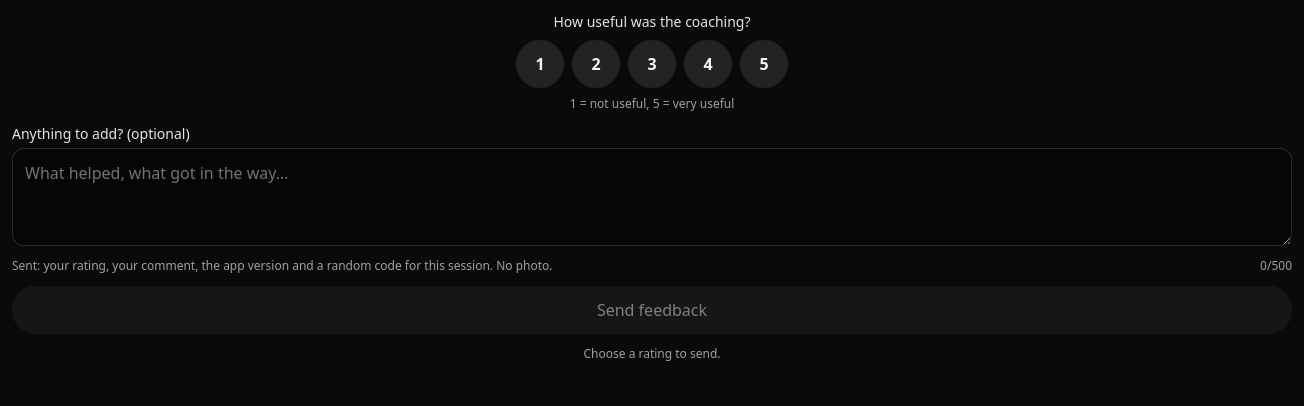
Test: FeedbackForm › says it was not saved when the route is missing, keeps the input, and retries with the same session code
The width and height of the screenshot is (1304, 406).
Click the radio button named "2 out of 5": (596, 64) 572,40 -> 620,88
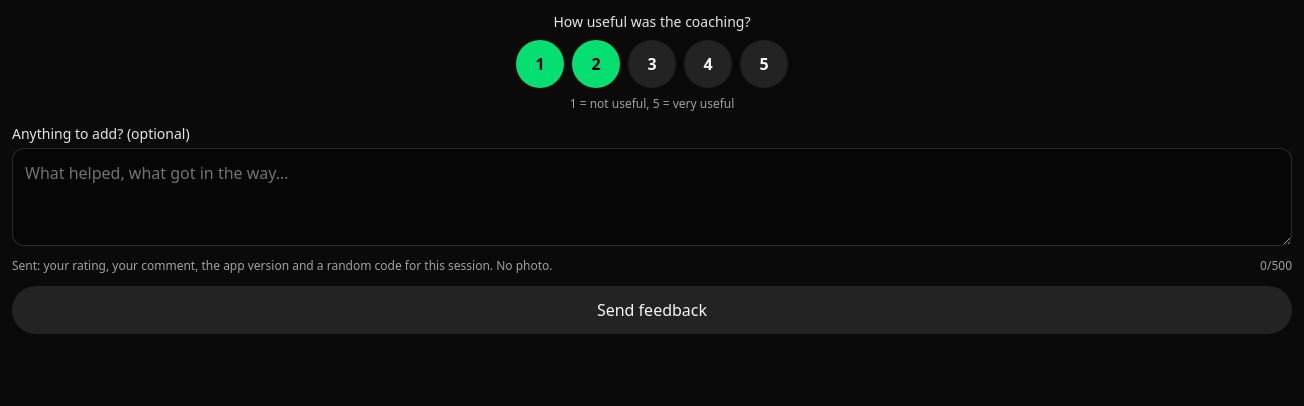
In the text box labelled "Anything to add? (optional)": (652, 197) 12,148 -> 1292,246, type "Too fast"
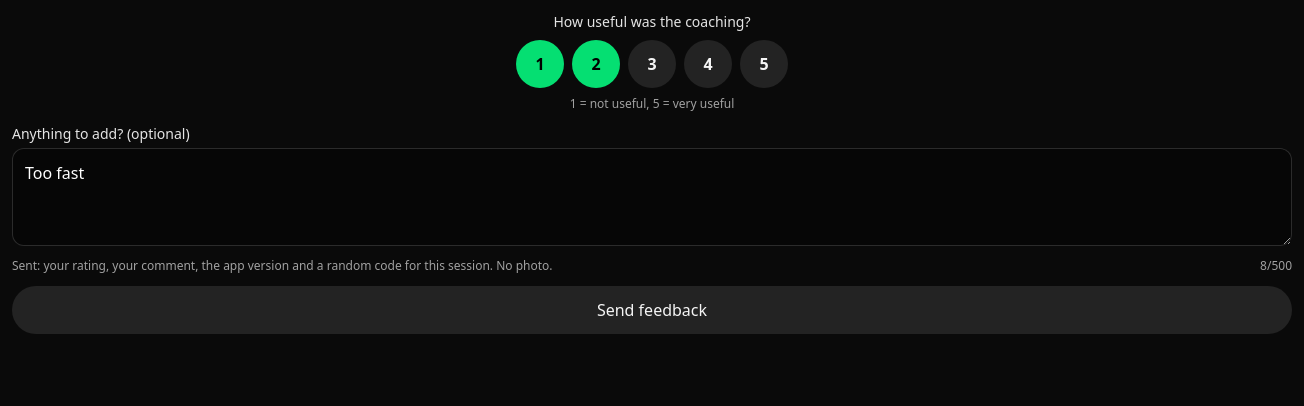
Click the button "Send feedback": (652, 310) 12,286 -> 1292,334
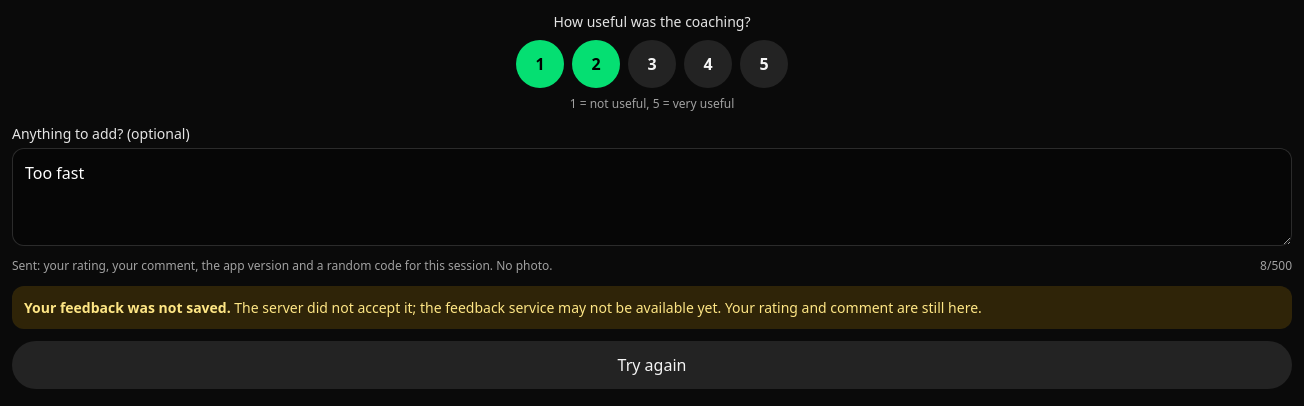
Check: the text "Thank you. Your feedback was saved." is not shown
Check: the radio button named "2 out of 5" is checked, box 572,40 -> 620,88
Check: the message shows "Your feedback was not saved.", box 24,298 -> 231,317
Click the button "Try again": (652, 365) 12,341 -> 1292,389
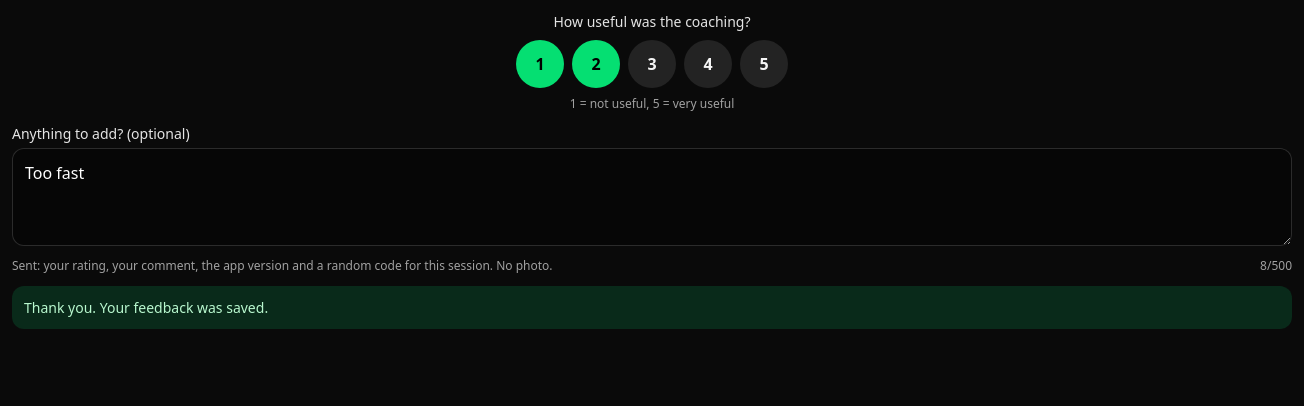
Check: the text "Thank you. Your feedback was saved." is shown, box 12,286 -> 1292,329
